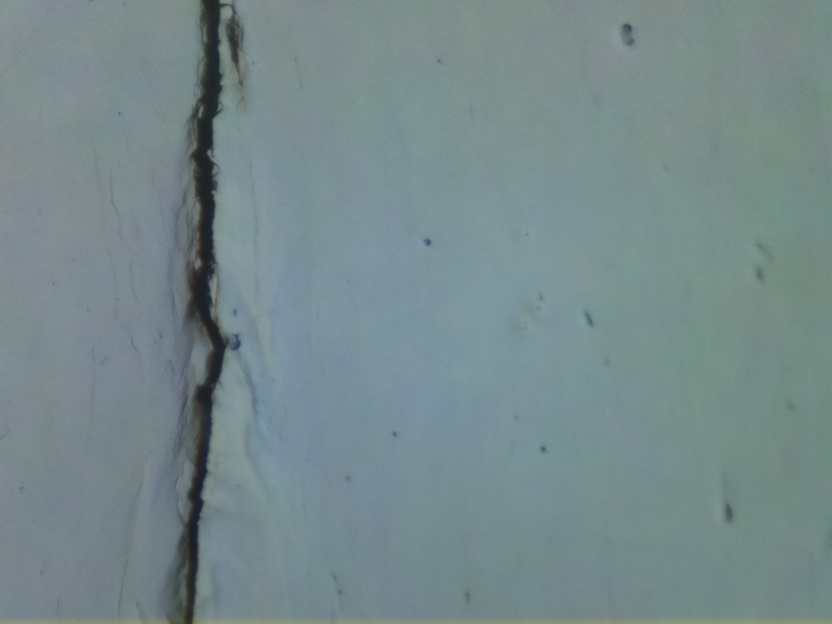crack: (162, 1, 247, 624)
